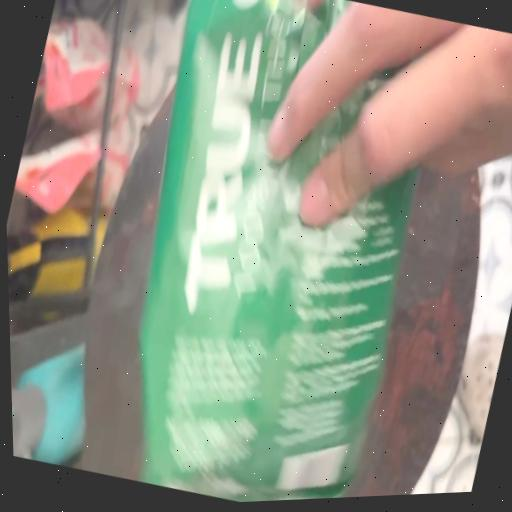cafe_xay: (112, 0, 418, 502)
